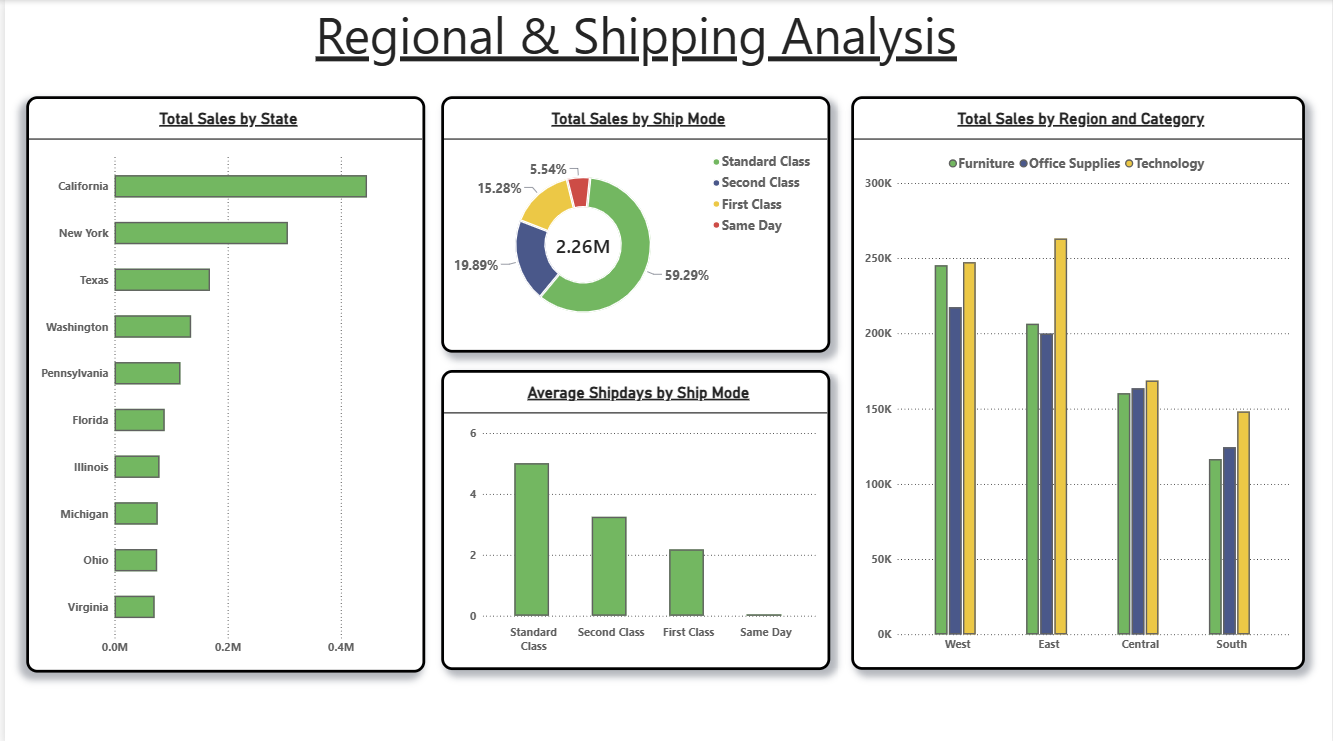

The dashboard page shown, as its layout file describes it:
{"tool":"powerbi","page":{"name":"Page 3","canvas":[1920,1080],"ordinal":2},"visuals":[{"type":"textbox","box":[349.3,0,1129.2,119.4],"z":0},{"type":"clusteredBarChart","fields":{"Category":["train.State"],"Y":["train.Total Sales"]},"box":[30.8,139.3,577.3,834.3],"z":1},{"type":"clusteredColumnChart","fields":{"Category":["train.Region"],"Series":["train.Category"],"Y":["train.Total Sales"]},"box":[1225.1,139.3,656.9,830.6],"z":2},{"type":"donutChart","fields":{"Category":["train.Ship Mode"],"Y":["train.Total Sales"]},"box":[631.6,139.3,562.8,371],"z":3},{"type":"clusteredColumnChart","fields":{"Category":["train.Ship Mode"],"Y":["train.Average Shipdays"]},"box":[631.6,535.7,563,434],"z":4}]}

Visuals, with their boxes in screenshot pixels (x1, y1, x2, y2), scaled from the page's 1920x1080 canvas onto the 1333x741 screenshot:
textbox: (x1=243, y1=0, x2=1026, y2=82)
clusteredBarChart - train.State x train.Total Sales: (x1=21, y1=96, x2=422, y2=668)
clusteredColumnChart - train.Region x train.Category: (x1=851, y1=96, x2=1307, y2=665)
donutChart - train.Ship Mode x train.Total Sales: (x1=439, y1=96, x2=829, y2=350)
clusteredColumnChart - train.Ship Mode x train.Average Shipdays: (x1=439, y1=368, x2=829, y2=665)
